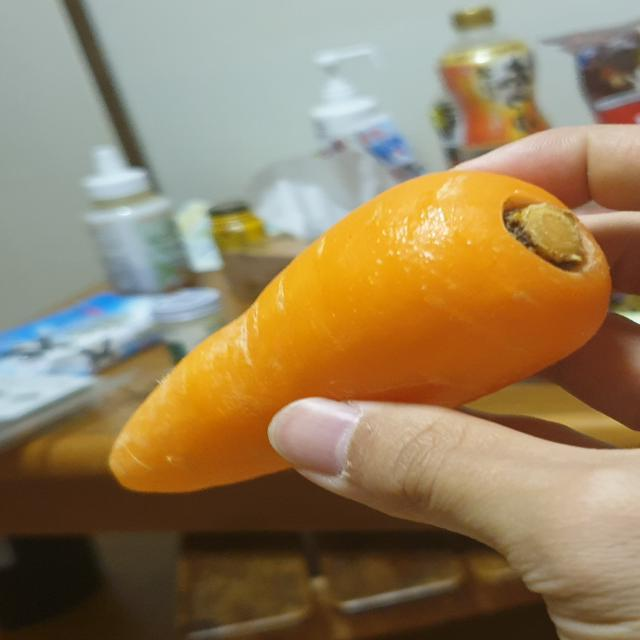carrot: (100, 163, 621, 500)
